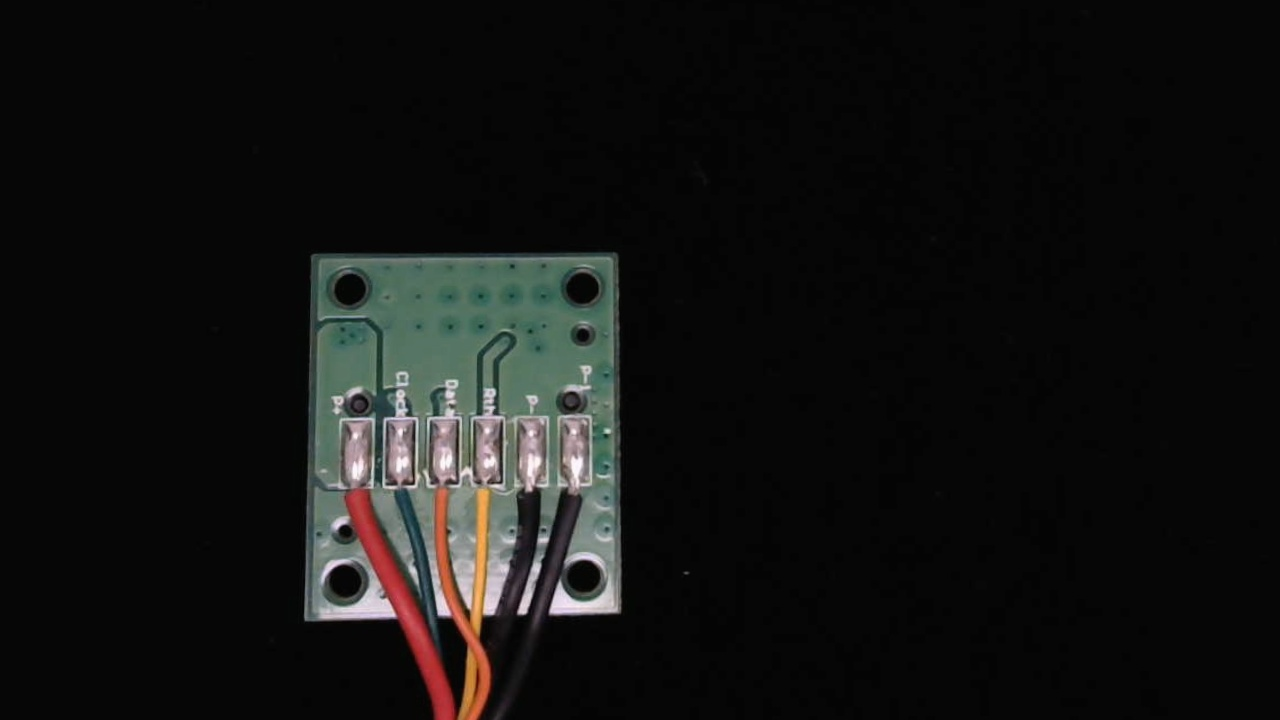Black: (513, 467, 551, 534)
Black1: (557, 464, 596, 539)
Green: (384, 469, 415, 534)
Orange: (425, 467, 461, 537)
Red: (335, 468, 377, 547)
Yellow: (467, 466, 508, 550)
